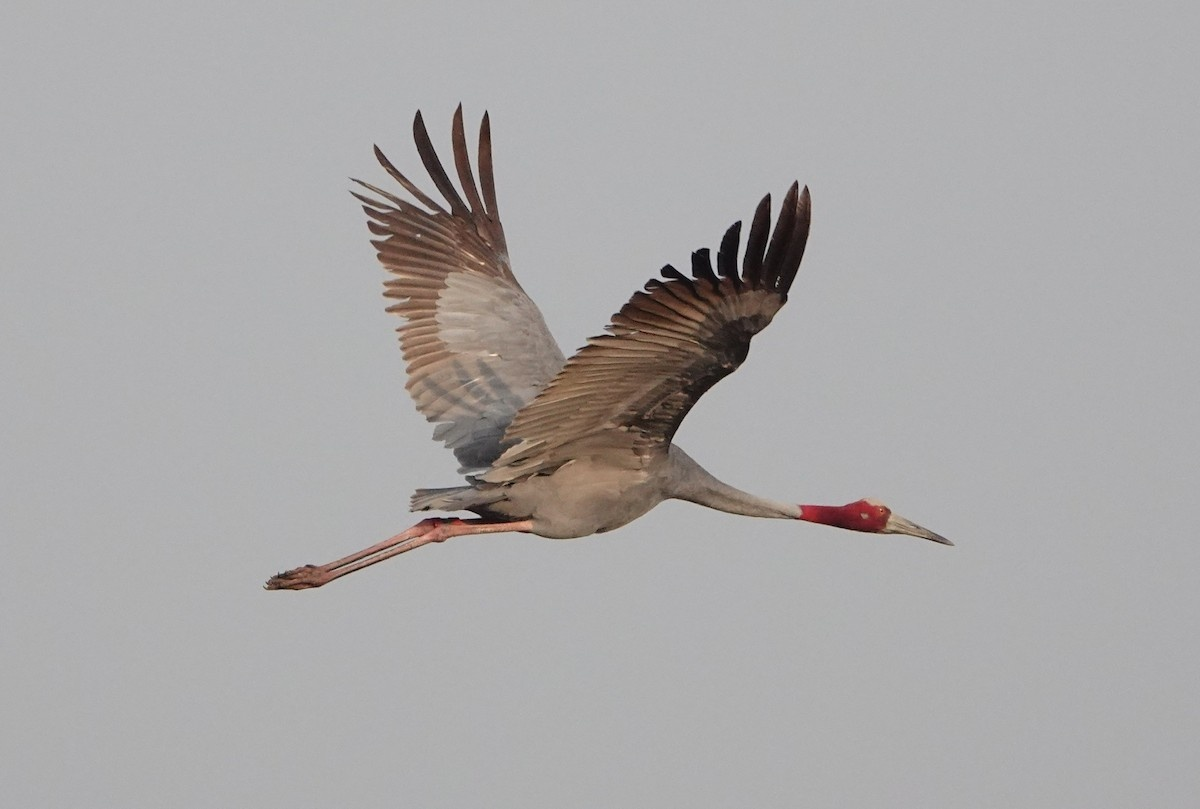crane: (264, 92, 977, 586)
